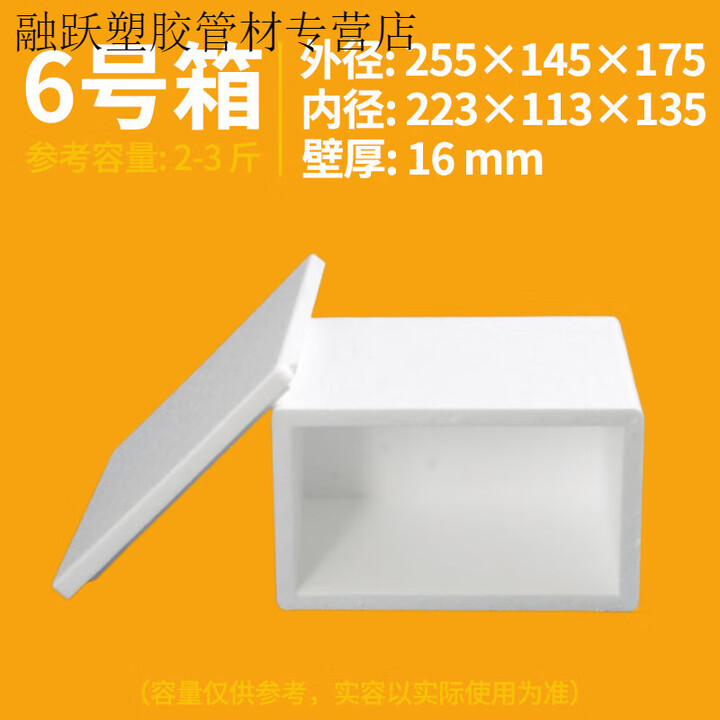泡沫箱: (53, 255, 644, 611)
